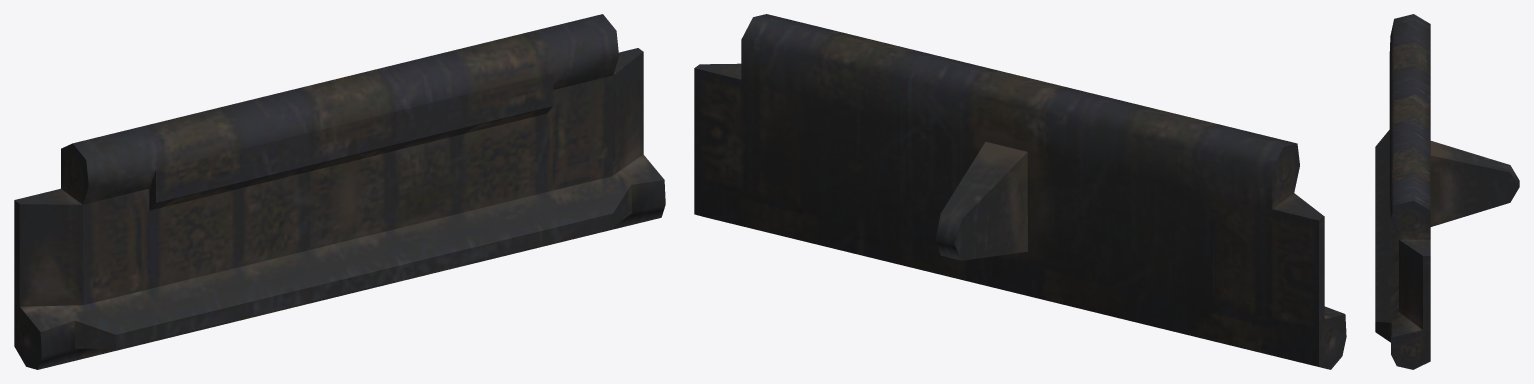
The picture shows the model from 3 angles, left to right: view 1: azimuth 30°, elevation 25°; view 2: azimuth 150°, elevation 25°; view 3: azimuth 270°, elevation 25°; orthographic projection. The views are drawn at different scales.
Visible parts, largest first — view 1: set_0_group_0; view 2: set_0_group_0; view 3: set_0_group_0.
Part boxes in pixels (x1=…): set_0_group_0: x1=14, y1=14, x2=665, y2=369; set_0_group_0: x1=694, y1=14, x2=1346, y2=369; set_0_group_0: x1=1375, y1=14, x2=1519, y2=369.
Size of the model in its own units: 0.66 by 0.2141 by 0.1832.
1 material, 1 textured.
